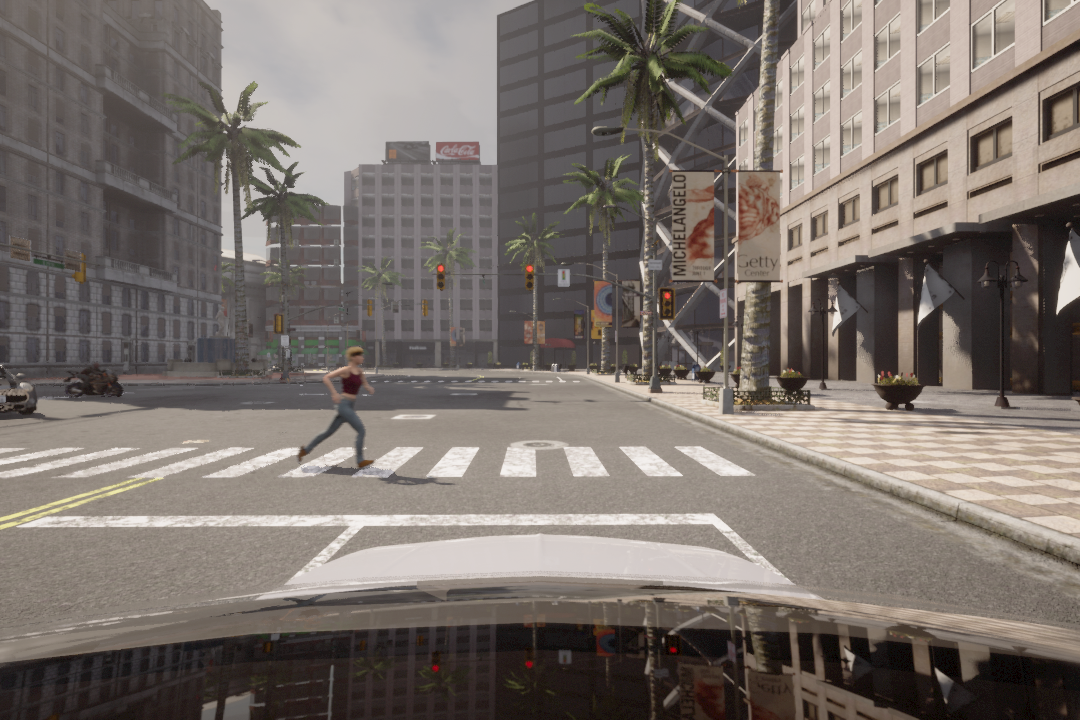TrafficLight: (659, 287, 674, 318), (435, 264, 446, 291), (524, 264, 534, 289)
walkside: (3, 444, 779, 481)
